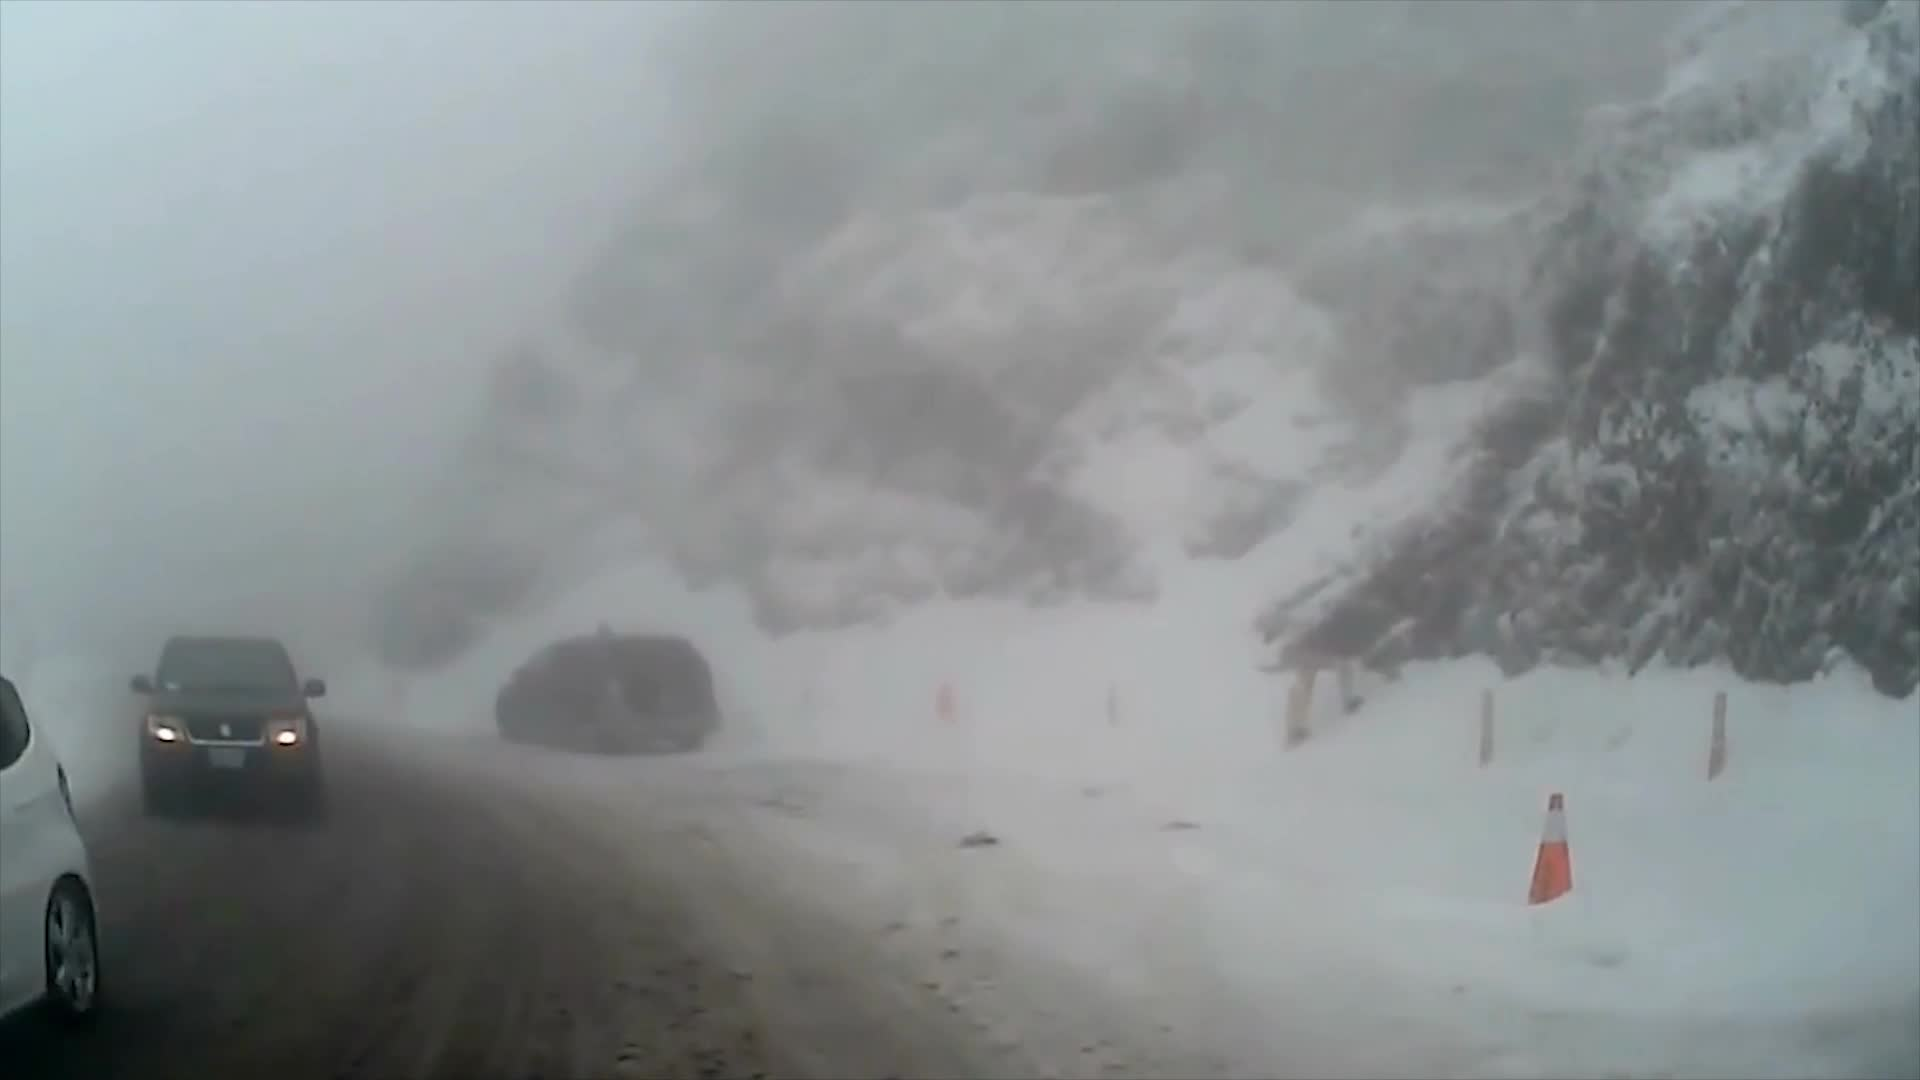vehicle: (0, 665, 107, 1044), (125, 630, 328, 820), (491, 624, 713, 750)
